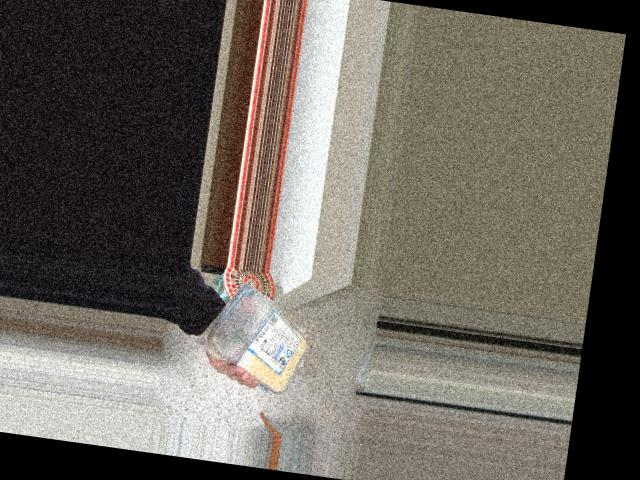cheese: (208, 283, 318, 383)
